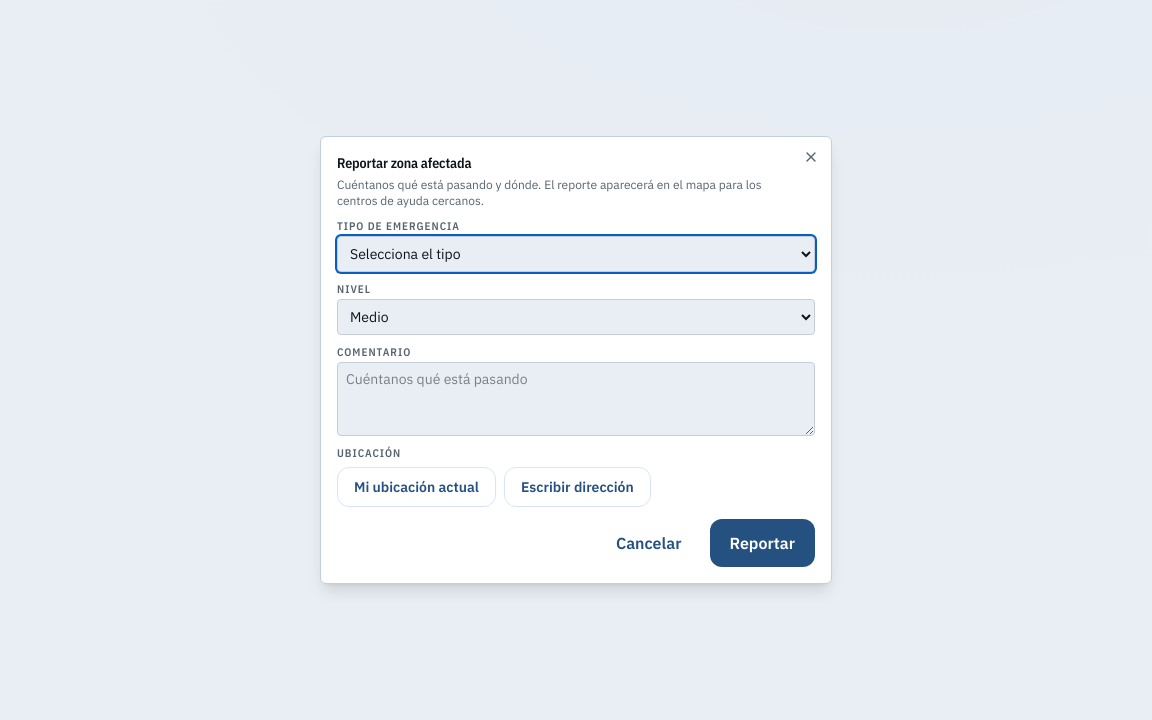
Scenario: CitizenReportDialog › drops the picked point when the citizen edits the address again
Select "Incendio" in the dropdown labelled "Tipo de emergencia". click: (576,254)
box: [337, 236, 815, 272]
Type "Incendio" into the text box labelled "Comentario". click: (576,399)
box: [337, 362, 815, 436]
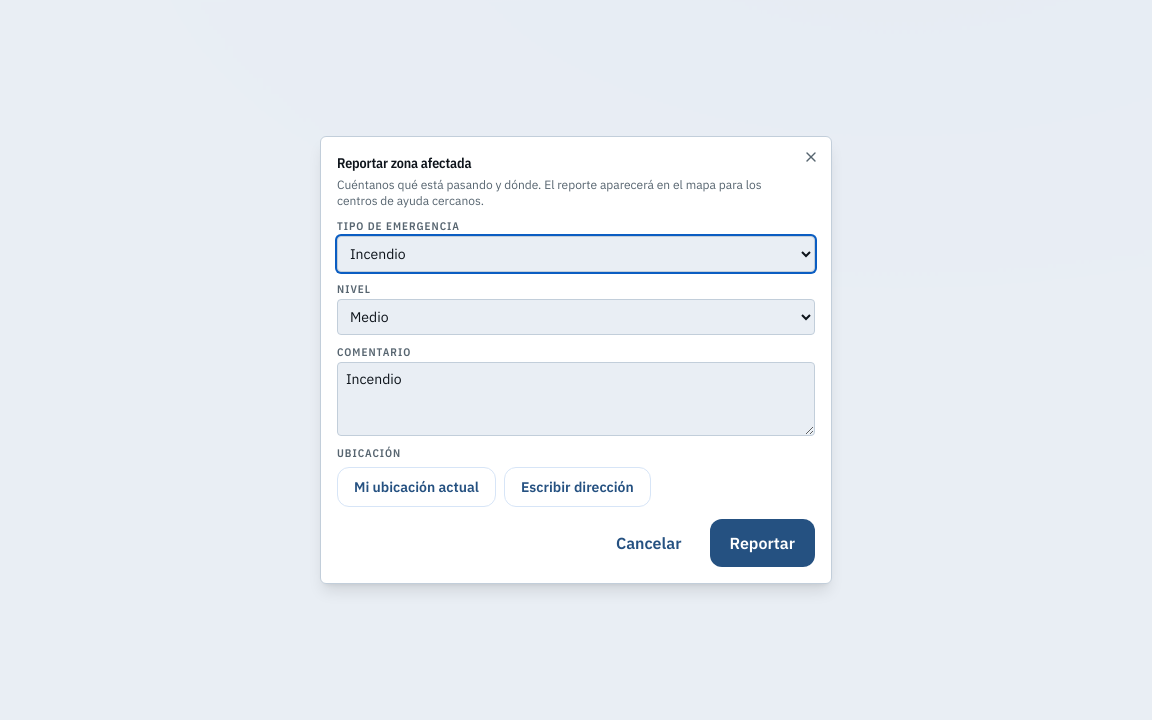
Click the button "Escribir dirección". click: (577,487)
box: [504, 467, 651, 507]
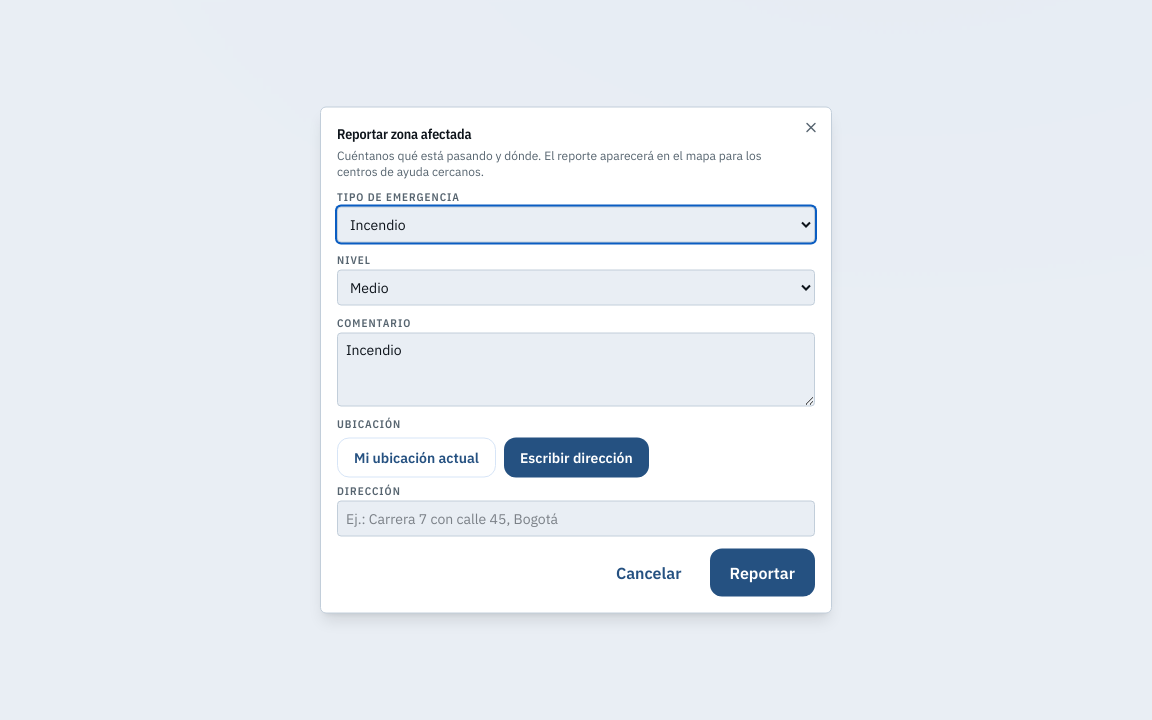
Type "Calle 145 Suba" into the search field labelled "Dirección". click: (576,518)
box: [337, 500, 815, 536]
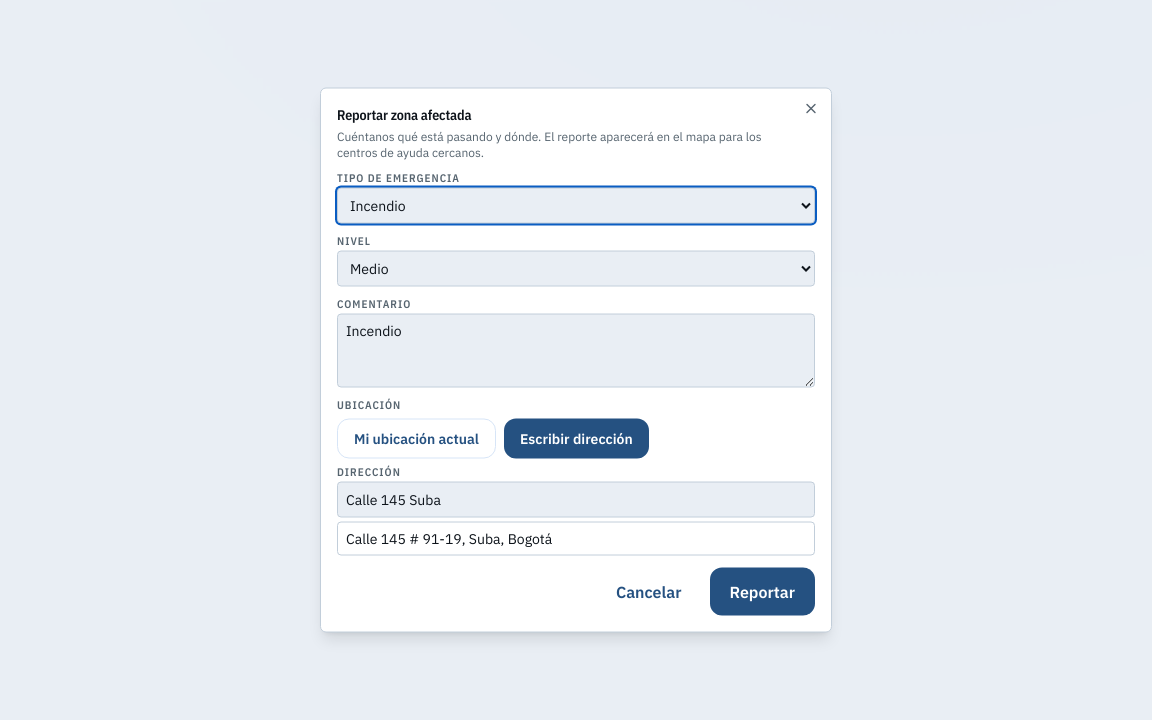
Click the button "Calle 145 # 91-19, Suba, Bogotá". click: (449,538)
box: [338, 522, 814, 554]
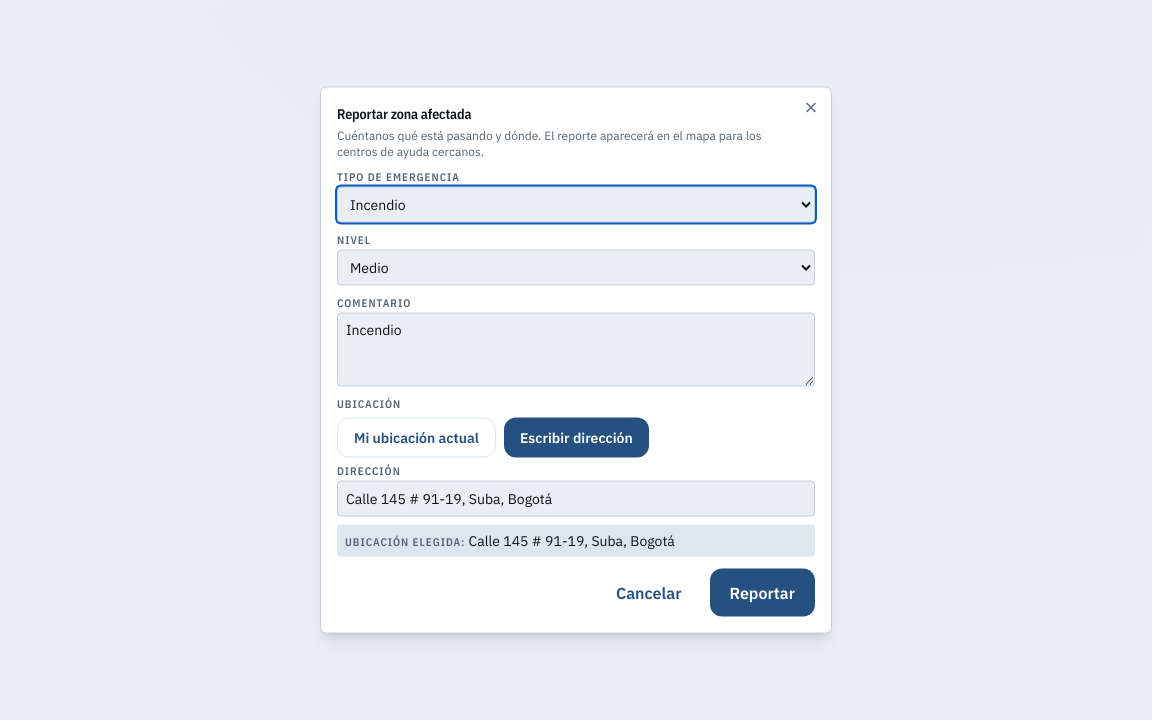
Replace the text in the search field labelled "Dirección" with "Calle 146". click: (576,498)
box: [337, 480, 815, 516]
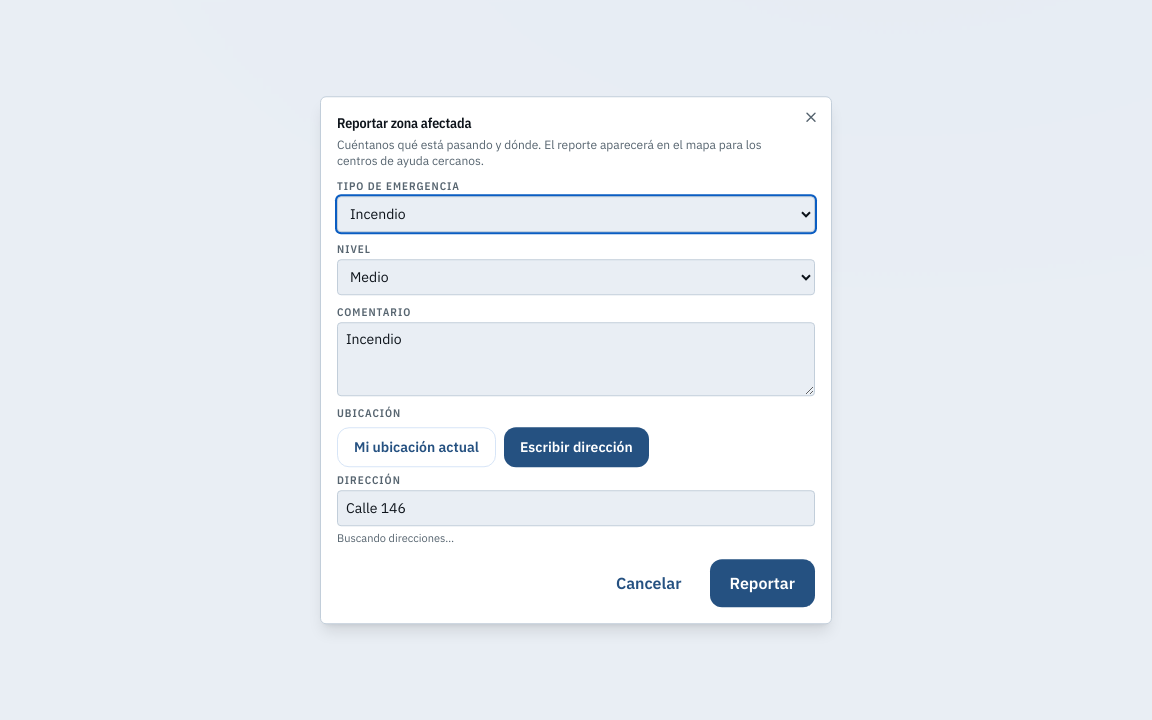
Now the text with test id "citizen-report-chosen-location" is gone
Click the button "Reportar". click: (762,583)
box: [710, 559, 815, 607]
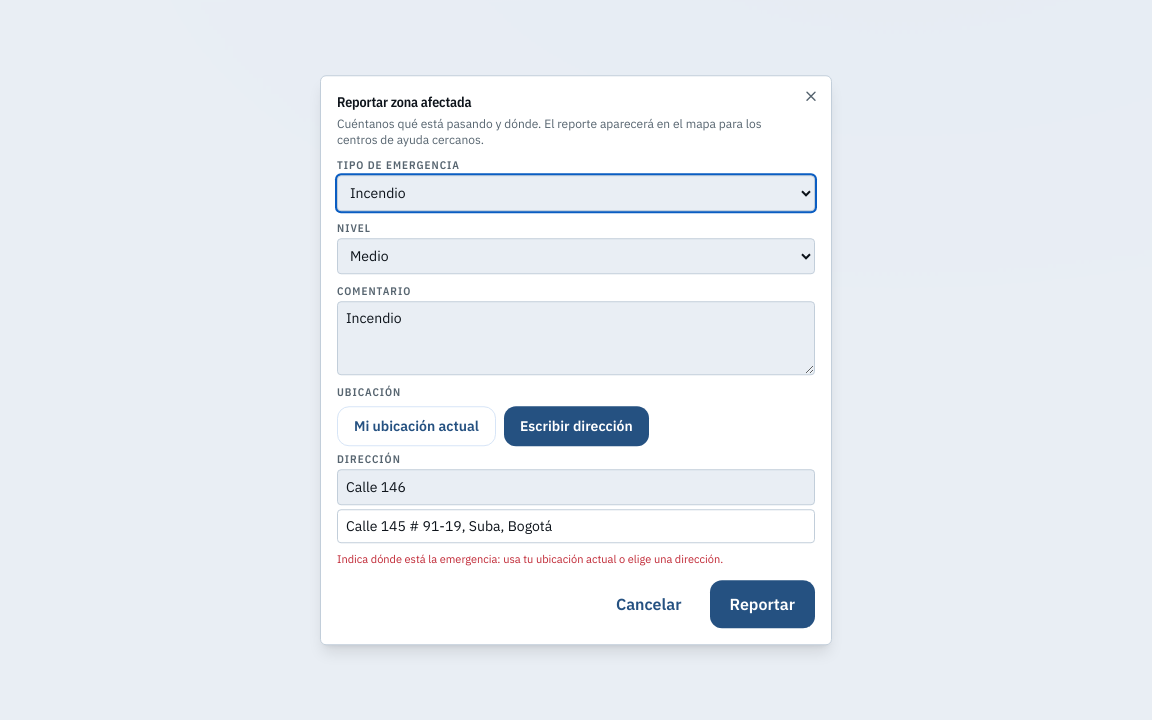
Now the message shows "Indica dónde está la emergencia", box [337, 552, 723, 566]
